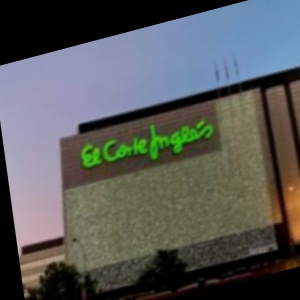corte_ingles: (177, 50, 257, 161)
